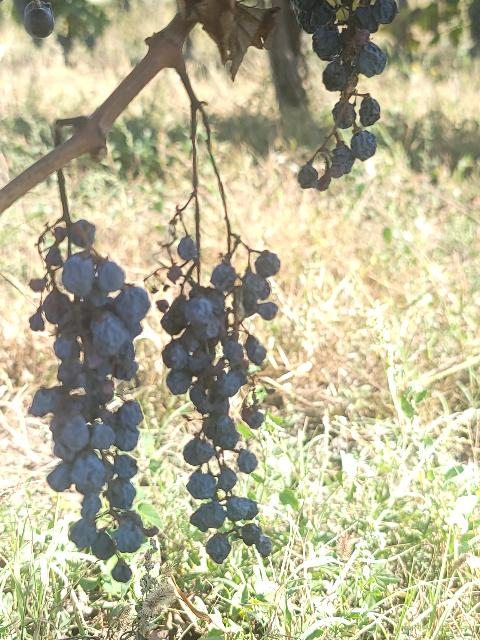grapes: (159, 231, 280, 564), (30, 230, 150, 559)
